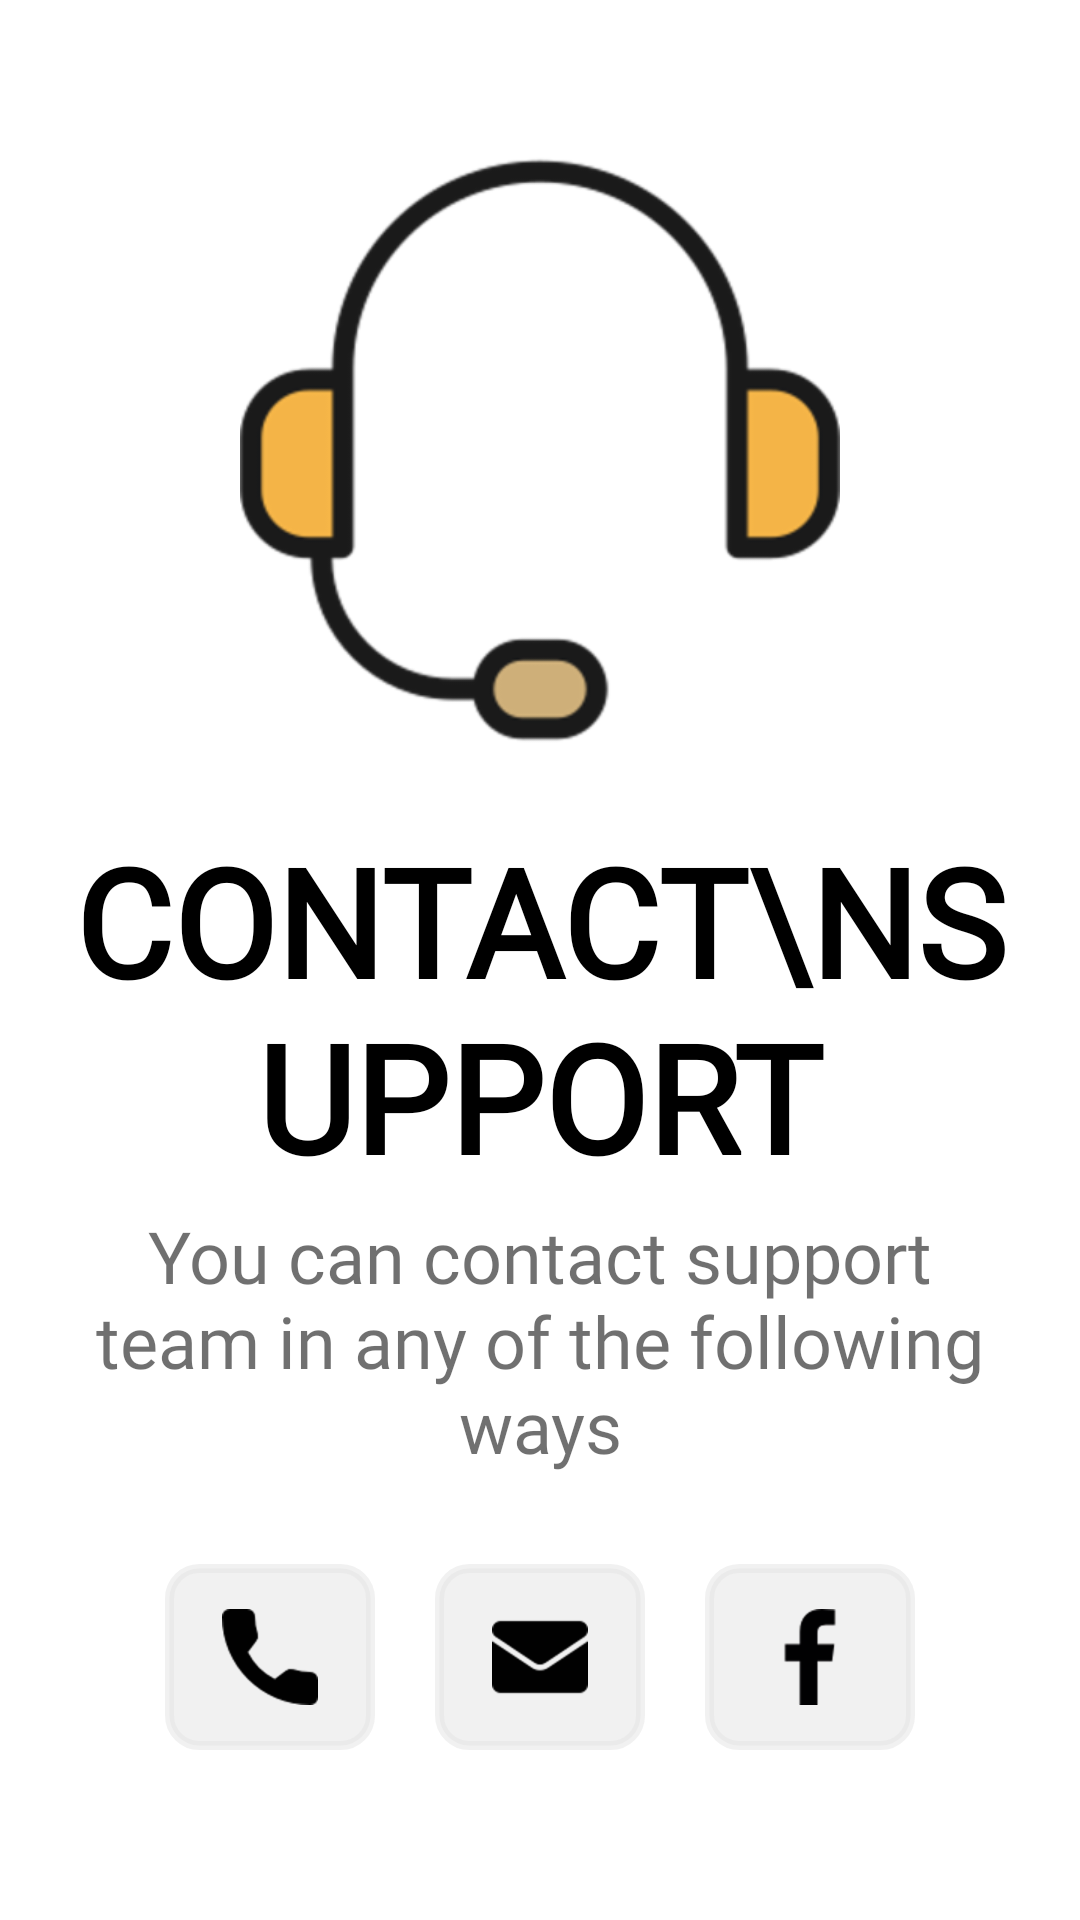

Where icons sit on this 1080×1920 app screen, as (x1, y1, x2, y2):
email: (492, 1620, 588, 1694)
phone: (222, 1609, 318, 1705)
